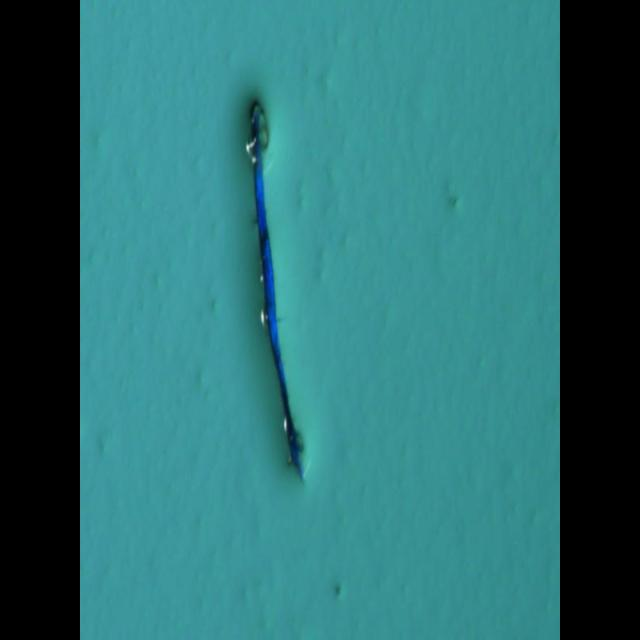Fibre: (244, 100, 306, 482)
